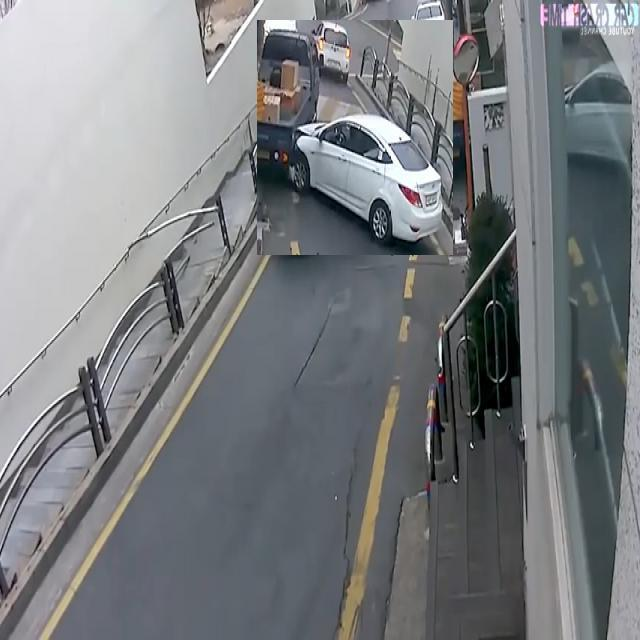accident: (257, 20, 453, 255)
